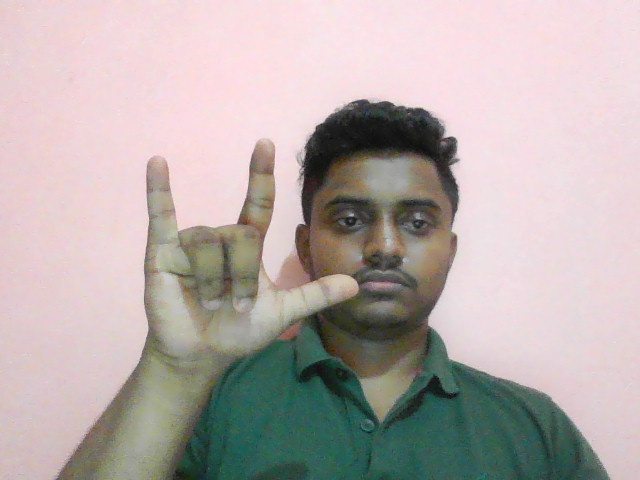I Love You: (133, 132, 360, 390)
